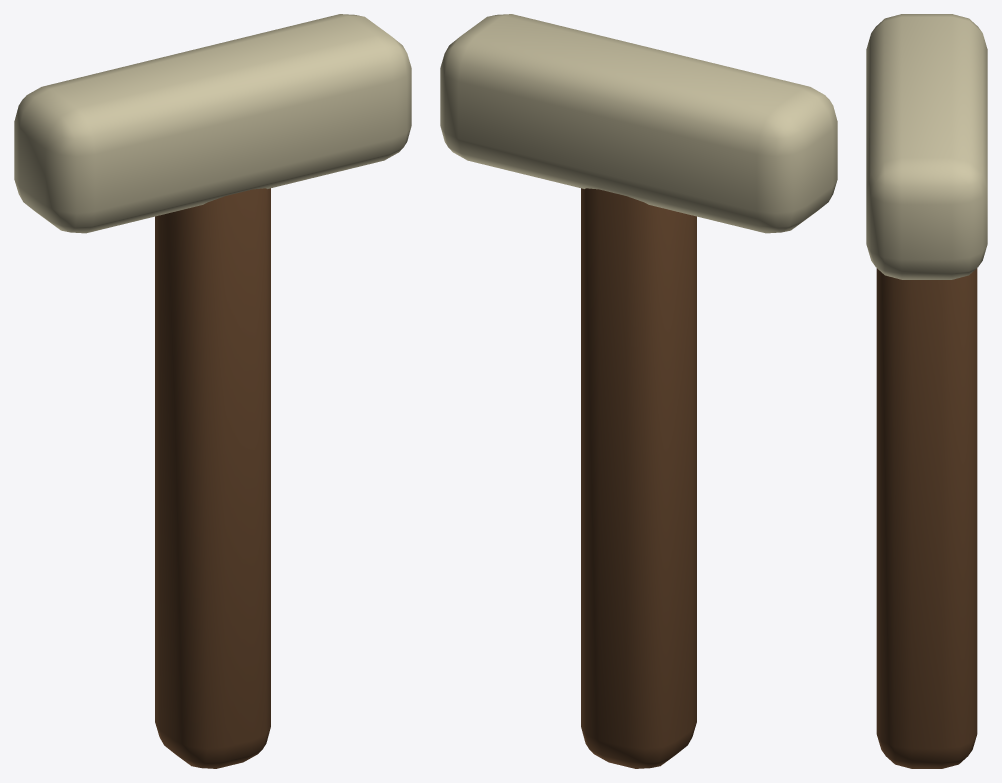
The model's file is trail_marker.glb.
3 renders of one model, left to right at view 1: azimuth 30°, elevation 25°; view 2: azimuth 150°, elevation 25°; view 3: azimuth 270°, elevation 25°, orthographic. The views are drawn at different scales.
Parts seen in each view (by area): view 1: trail_marker_part_0; view 2: trail_marker_part_0; view 3: trail_marker_part_0.
Part boxes in pixels (x1=…): trail_marker_part_0: x1=14, y1=14, x2=411, y2=768; trail_marker_part_0: x1=440, y1=14, x2=837, y2=768; trail_marker_part_0: x1=866, y1=14, x2=987, y2=768.
Size of the model in its own units: 0.4 by 0.735 by 0.12.
